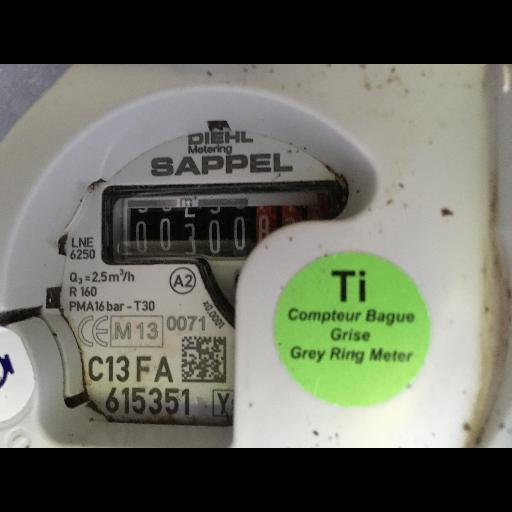0: (131, 215, 153, 257), (205, 216, 225, 259), (230, 214, 250, 257), (156, 214, 176, 256)
3: (180, 217, 201, 258)
8: (256, 212, 276, 246)
border_water_meter_number: (111, 188, 336, 266)
